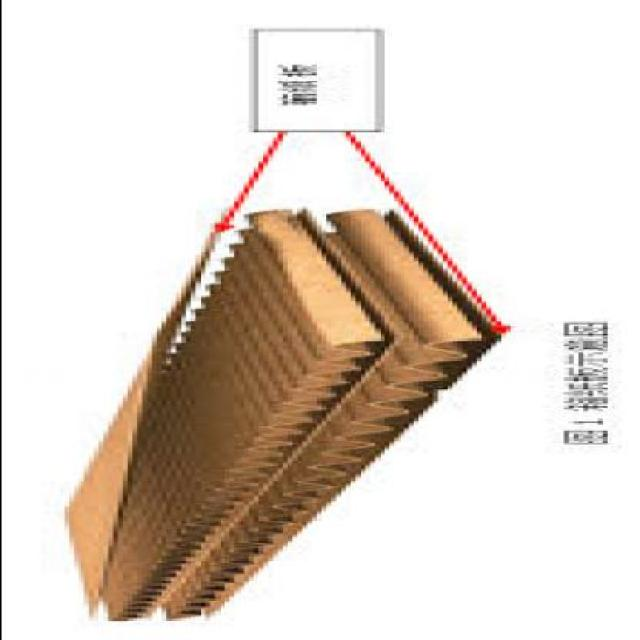CARDBOARD: (63, 210, 500, 622)
